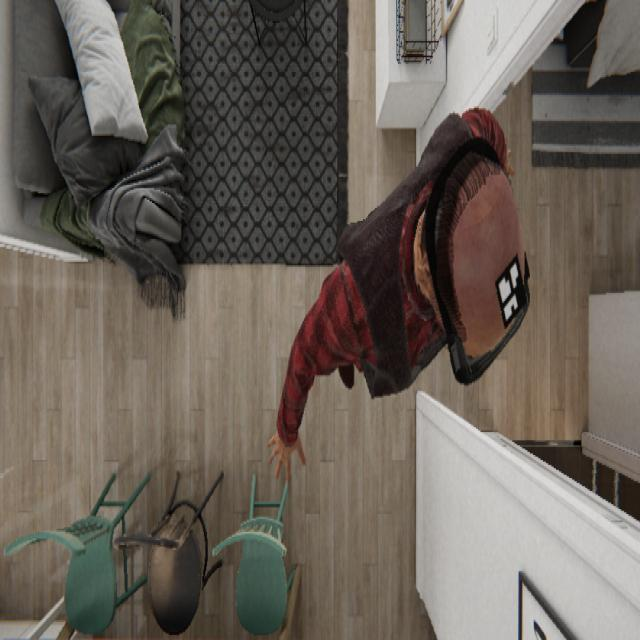AruCO: (493, 249, 528, 329)
Human: (267, 105, 530, 484)
